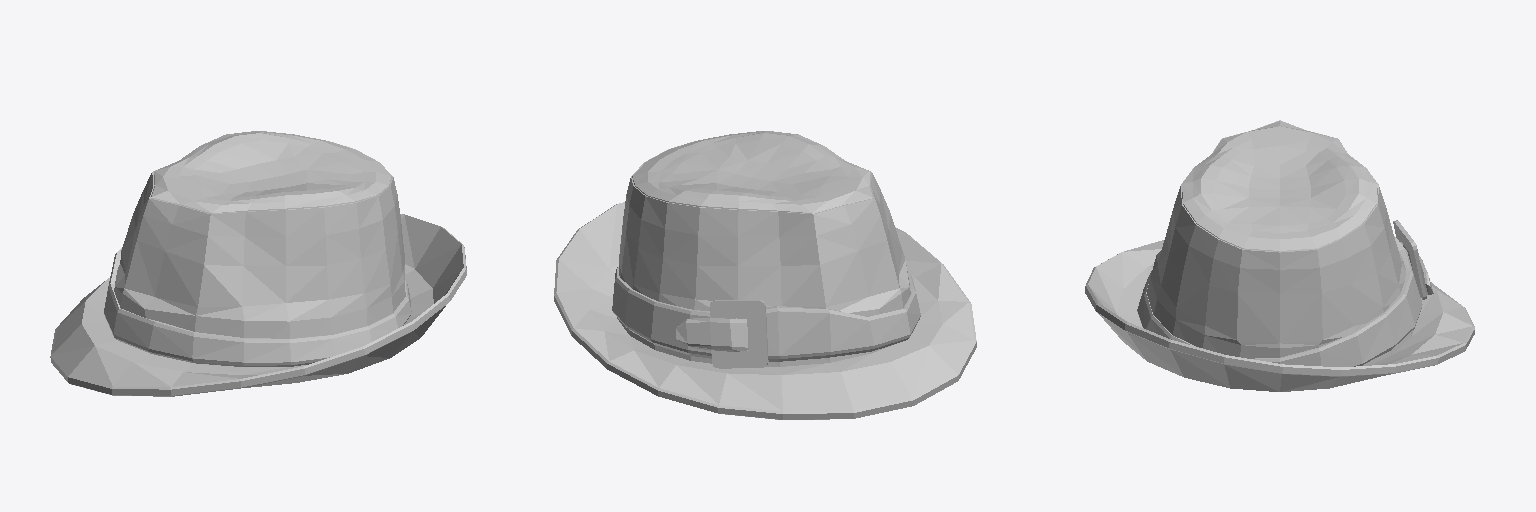
The model's file is AlpineFedora.obj.
3 views of the same model, side by side, from view 1: azimuth 30°, elevation 25°; view 2: azimuth 150°, elevation 25°; view 3: azimuth 270°, elevation 25° (orthographic).
Visible parts, largest first — view 1: PutMeshInThis1; view 2: PutMeshInThis1; view 3: PutMeshInThis1.
Part boxes in pixels (x1,y1,x2,y2): PutMeshInThis1: (50, 131, 466, 396); PutMeshInThis1: (554, 131, 976, 419); PutMeshInThis1: (1085, 120, 1474, 391).
Bounding box in the file's own units: 1.94 × 0.8554 × 1.73.